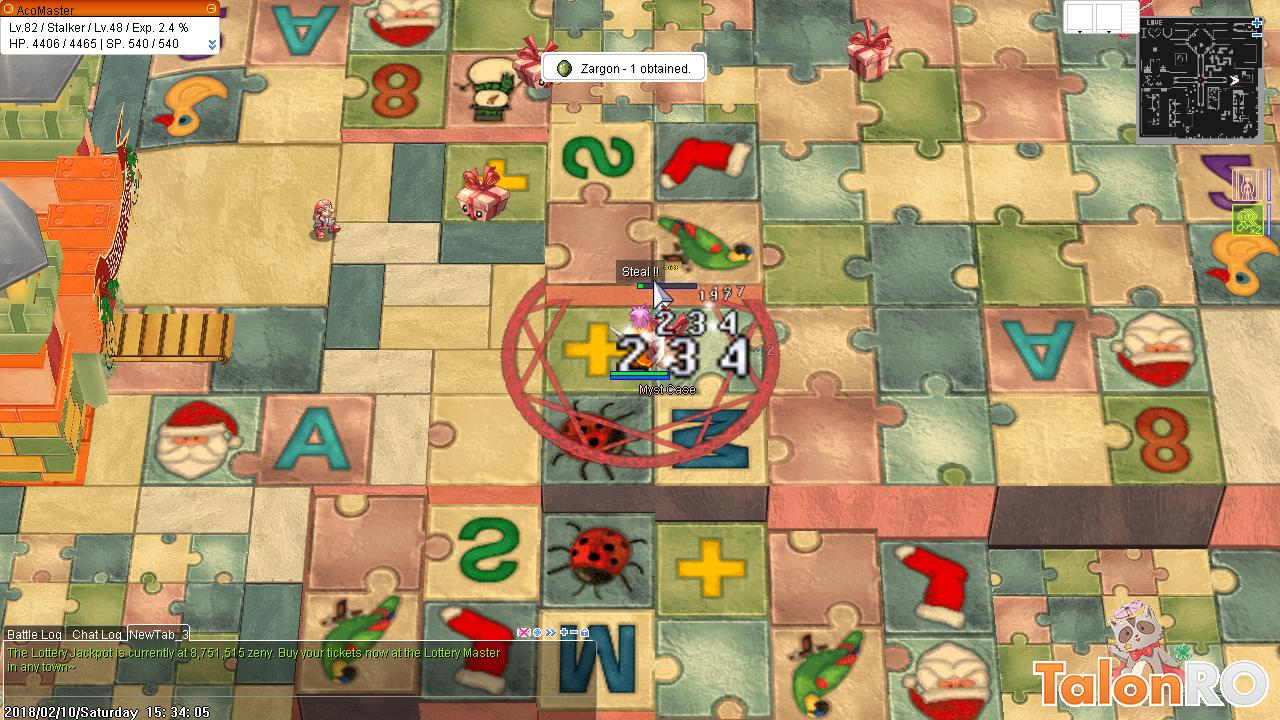myst_case: (844, 15, 897, 87), (459, 162, 513, 226), (512, 35, 547, 96)
